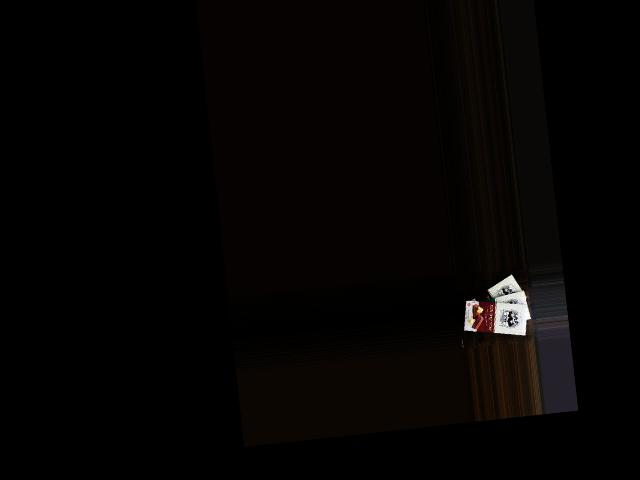chocolate: (458, 272, 530, 321)
